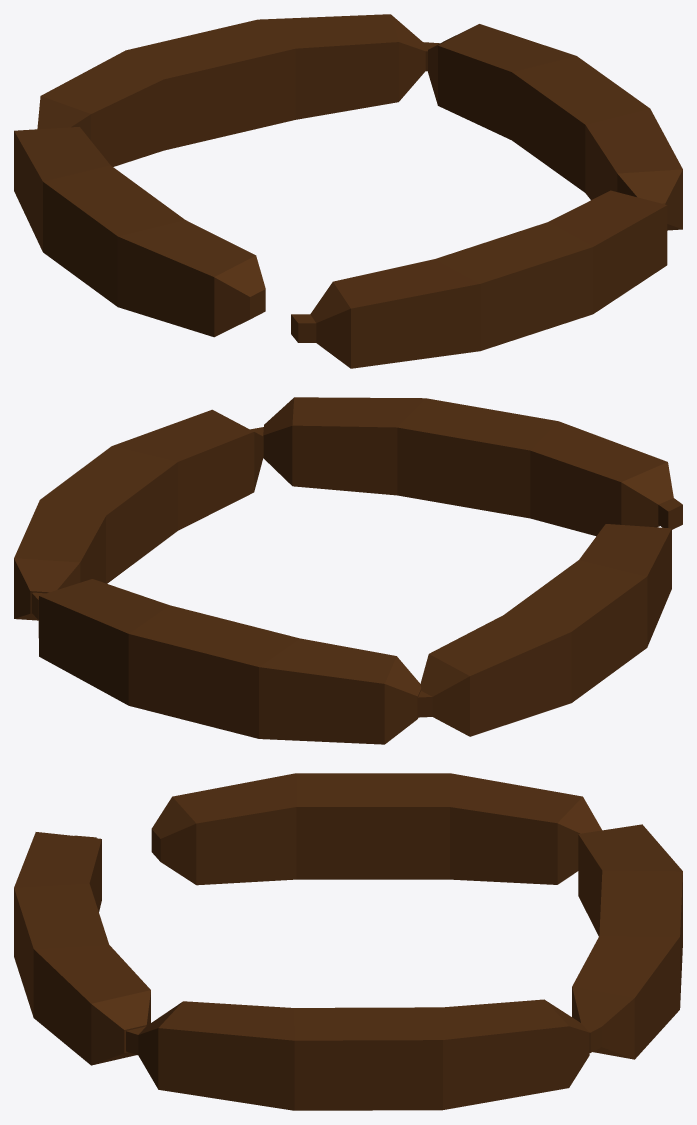
File: Sausages.fbx
The picture shows the model from 3 angles, top to bottom: view 1: azimuth 30°, elevation 25°; view 2: azimuth 150°, elevation 25°; view 3: azimuth 270°, elevation 25°; orthographic projection. The views are drawn at different scales.
Visible parts, largest first — view 1: Cube.015; view 2: Cube.015; view 3: Cube.015.
Boxes of the visible parts, box(x1,y1,x2,y2) form: Cube.015: box(14, 14, 682, 368); Cube.015: box(14, 397, 682, 744); Cube.015: box(14, 773, 682, 1110).
Size of the model in its own units: 104 by 13.34 by 111.
